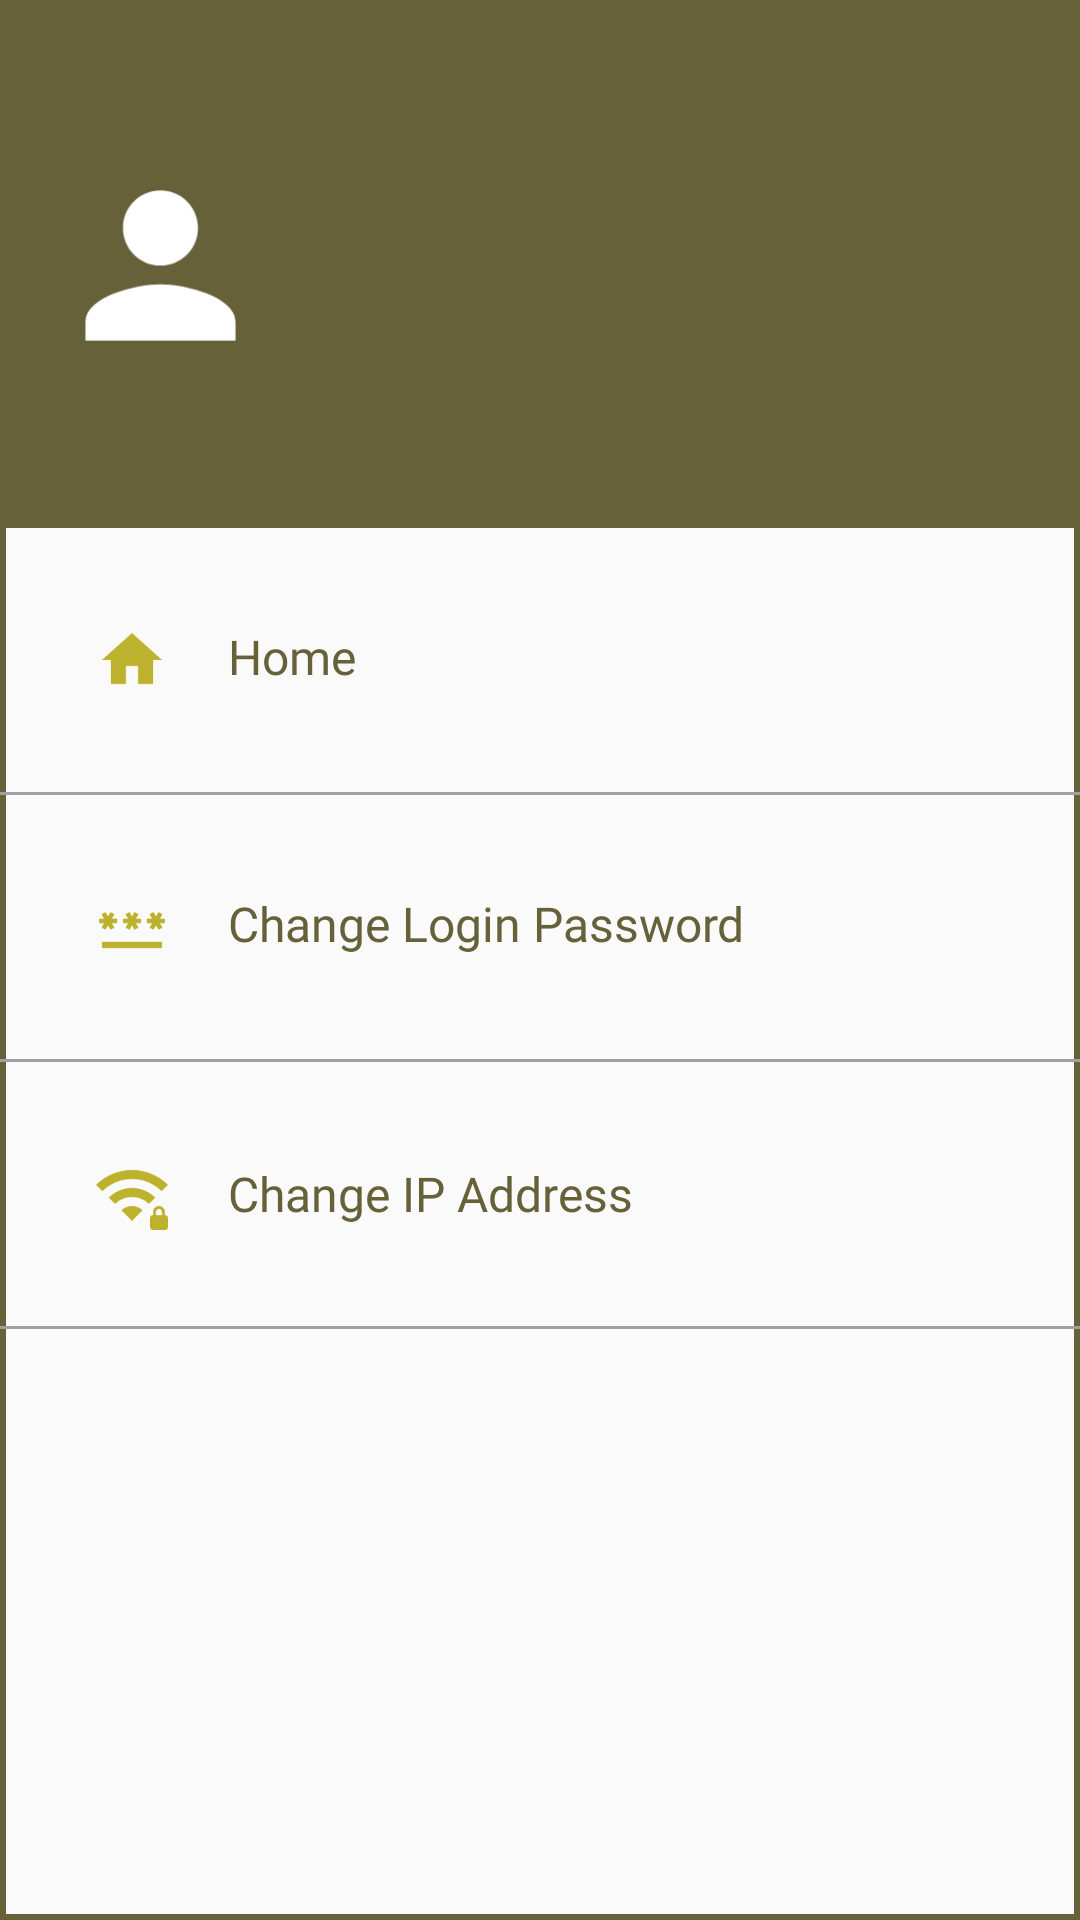

Icon click points for this 1080×1920 phone screenshot, format [x,y]:
person: [160,265]
